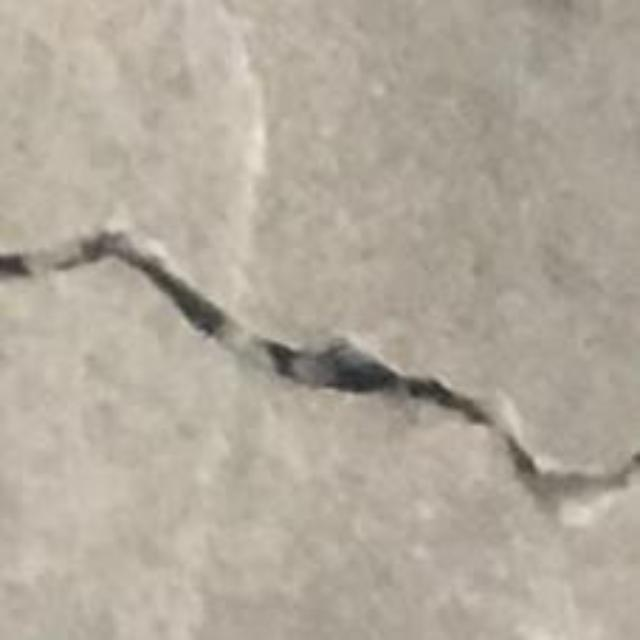crack: (0, 229, 639, 524)
